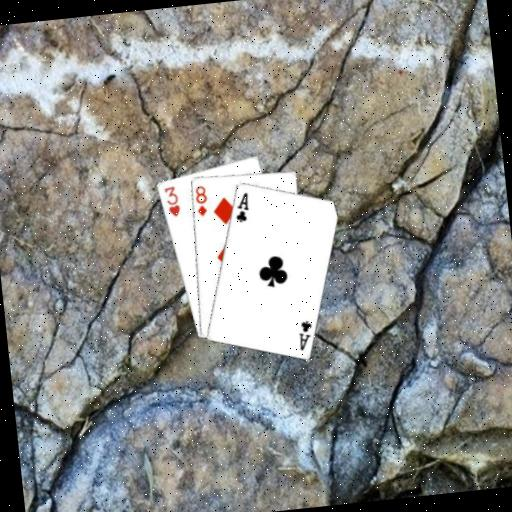3H: (161, 183, 183, 220)
8D: (191, 182, 210, 218)
AC: (230, 189, 252, 224), (294, 317, 315, 352)
